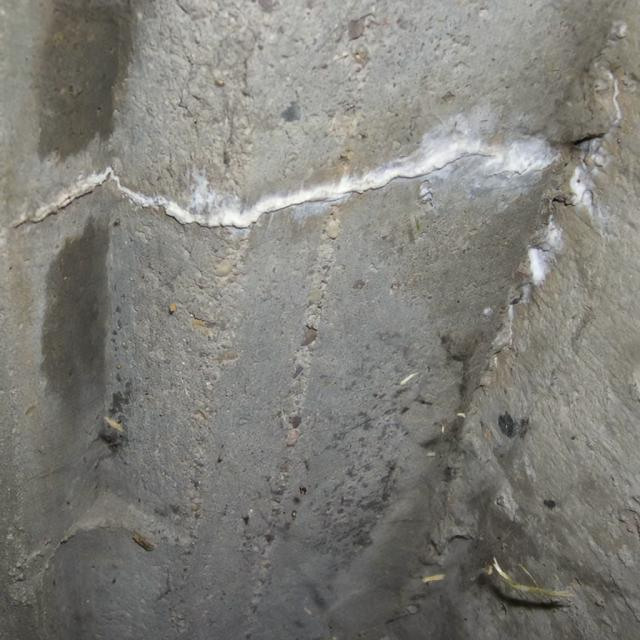D01: (119, 138, 557, 228)
